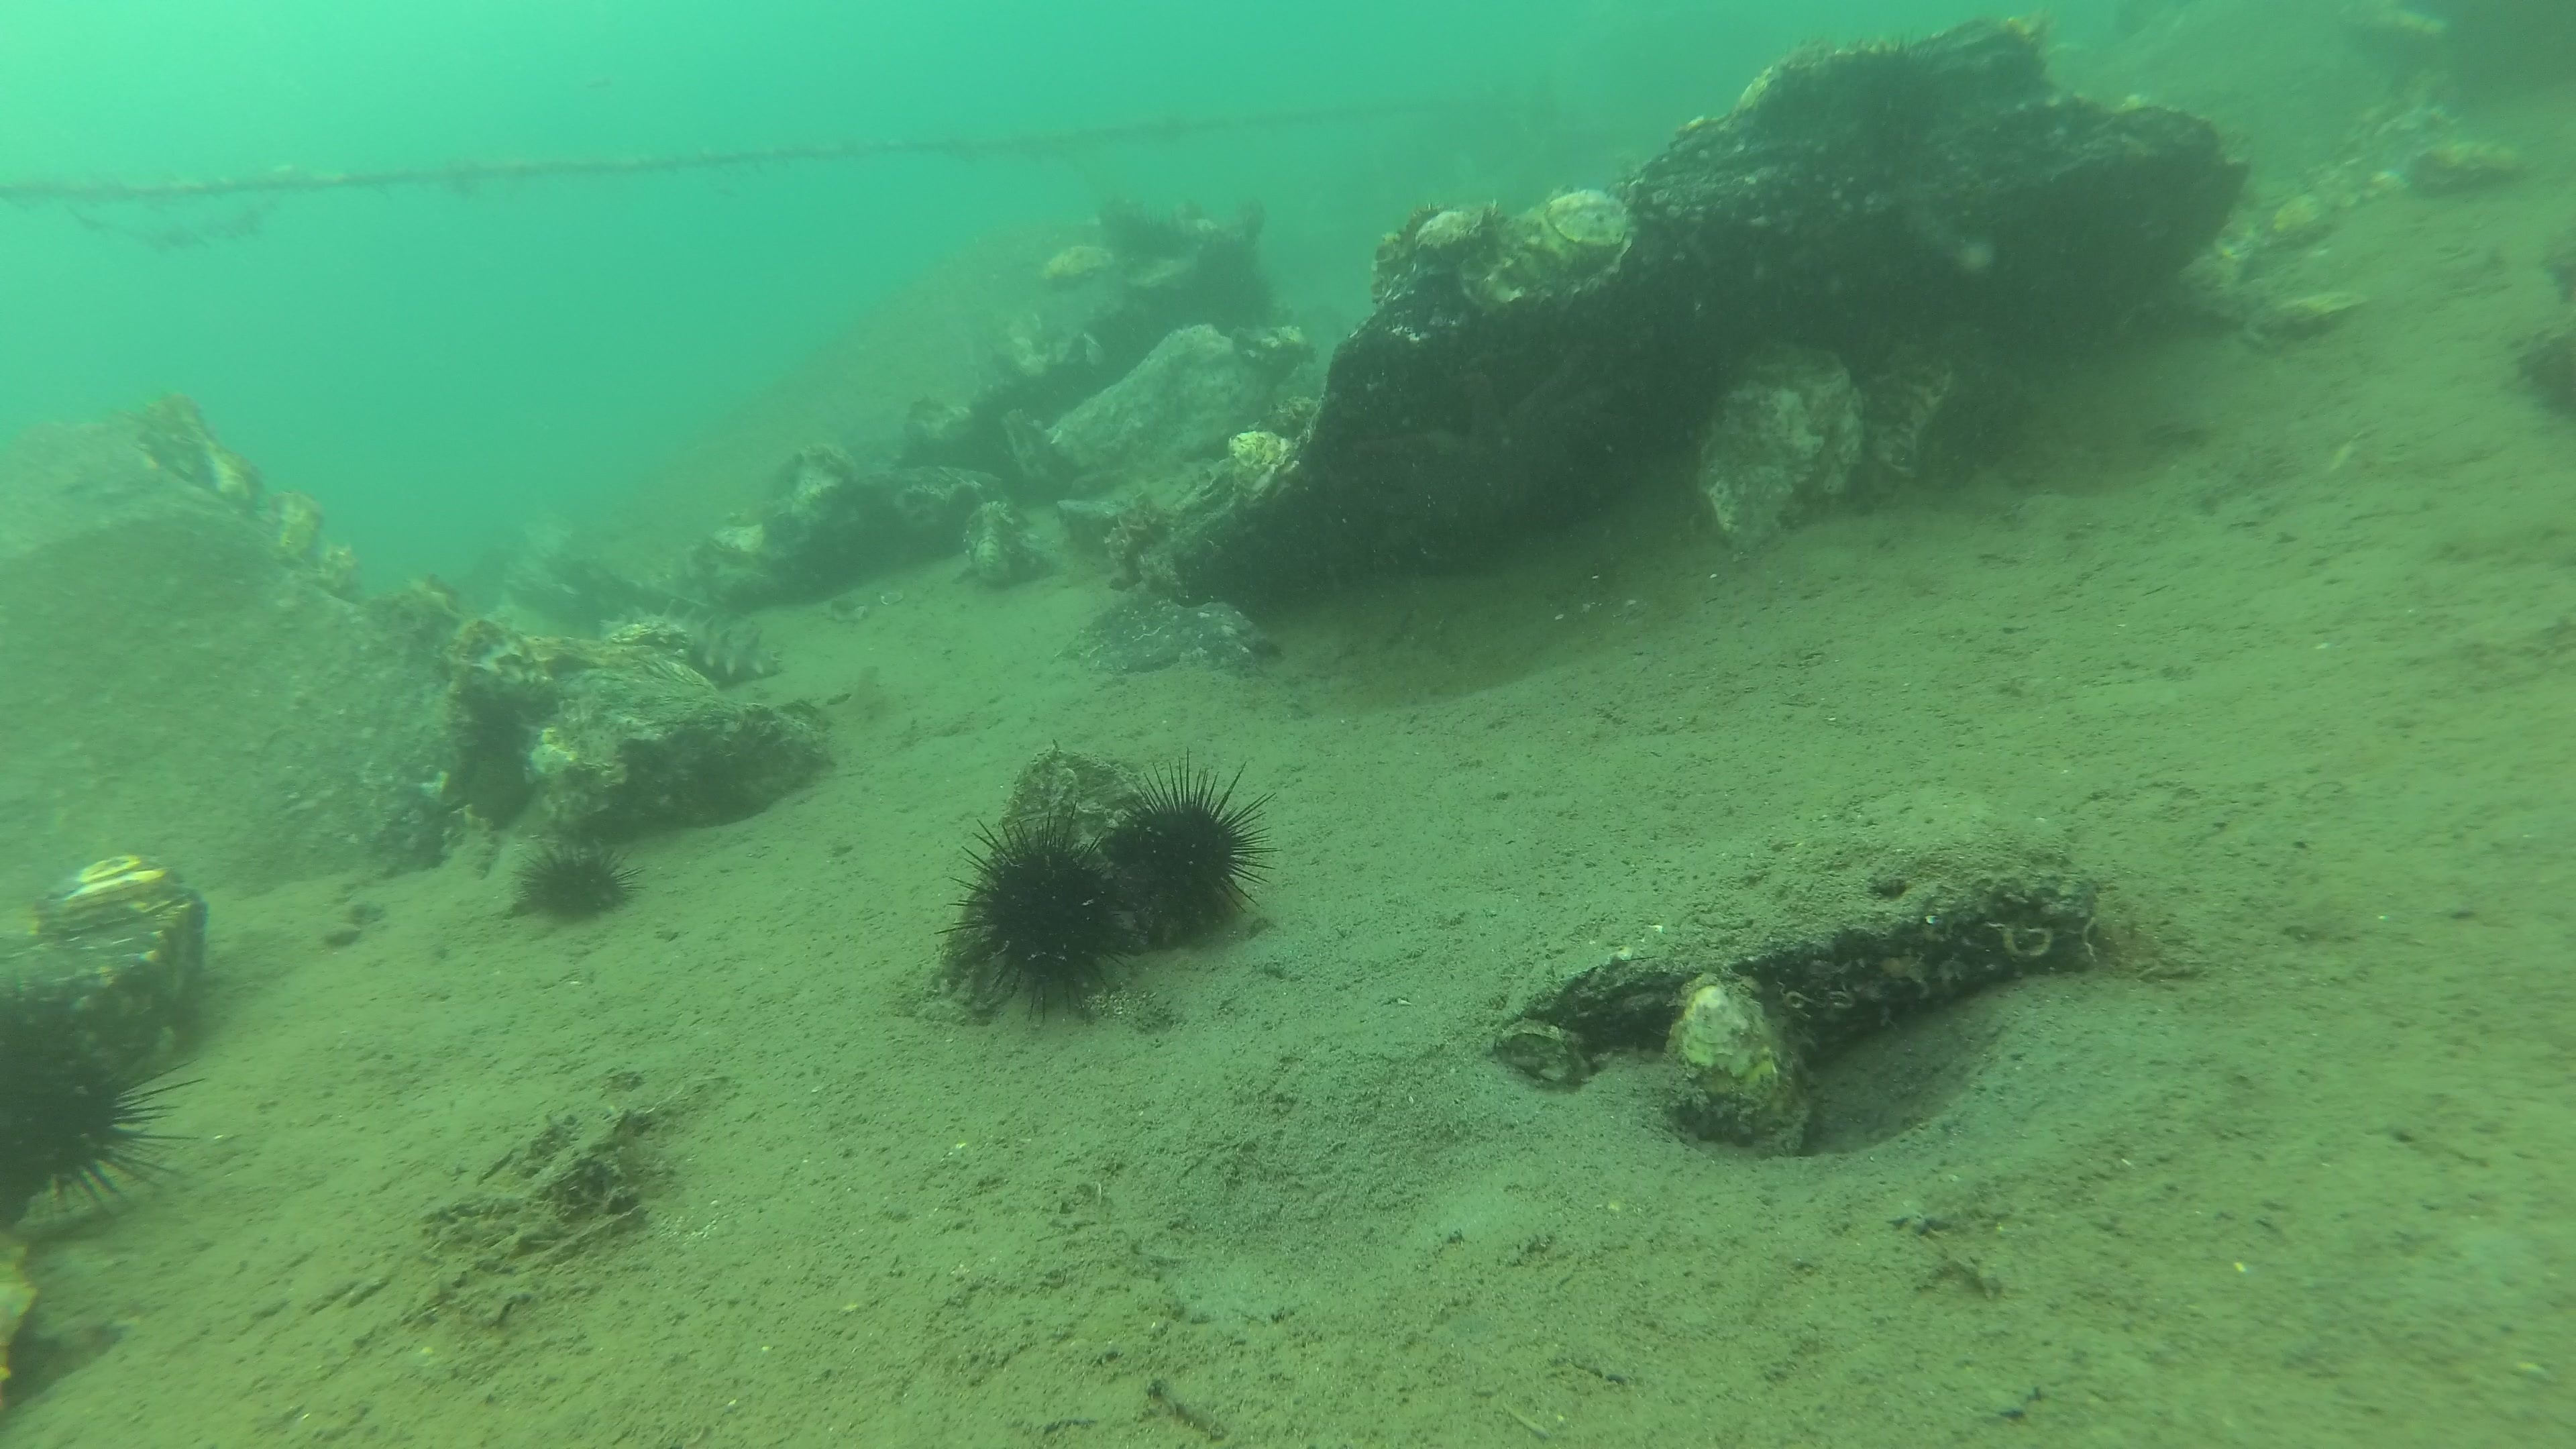echinus: (0, 978, 209, 1226), (932, 798, 1146, 1023), (1100, 745, 1286, 936), (510, 837, 651, 920), (1859, 30, 1946, 161), (1233, 269, 1277, 327), (1139, 209, 1185, 260)
holothurian: (596, 596, 786, 679)
starfish: (1346, 341, 1619, 557)
